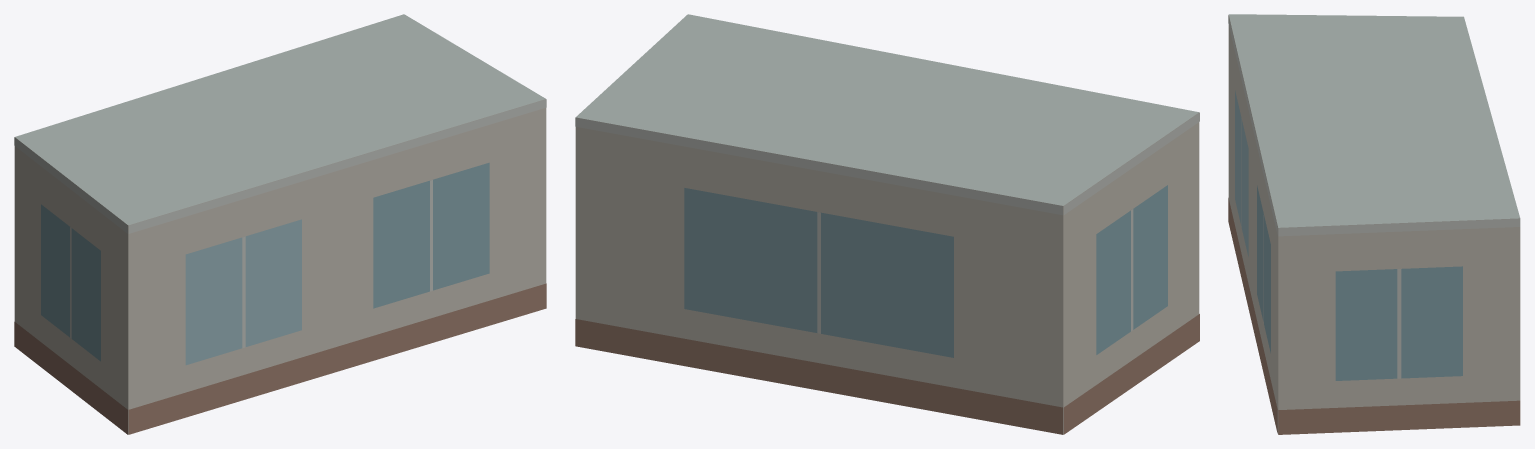
Rendered from survey-upis-32495463.glb.
3 renders of one model, left to right at view 1: azimuth 30°, elevation 25°; view 2: azimuth 150°, elevation 25°; view 3: azimuth 270°, elevation 25°, orthographic. The views are drawn at different scales.
Parts seen in each view (by area): view 1: survey-upis-32495463.tmp; view 2: survey-upis-32495463.tmp; view 3: survey-upis-32495463.tmp.
Boxes of the visible parts, <box> form: survey-upis-32495463.tmp: <box>14,14,546,434</box>; survey-upis-32495463.tmp: <box>575,14,1199,434</box>; survey-upis-32495463.tmp: <box>1228,14,1520,434</box>.
Bounding box in the file's own units: 6.77 × 3.05 × 3.91.
